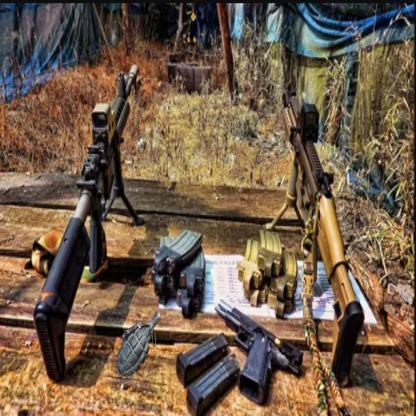Grenade: (115, 309, 162, 379)
Gun: (266, 79, 380, 383), (33, 62, 140, 384)
Pistol: (215, 298, 305, 406)
